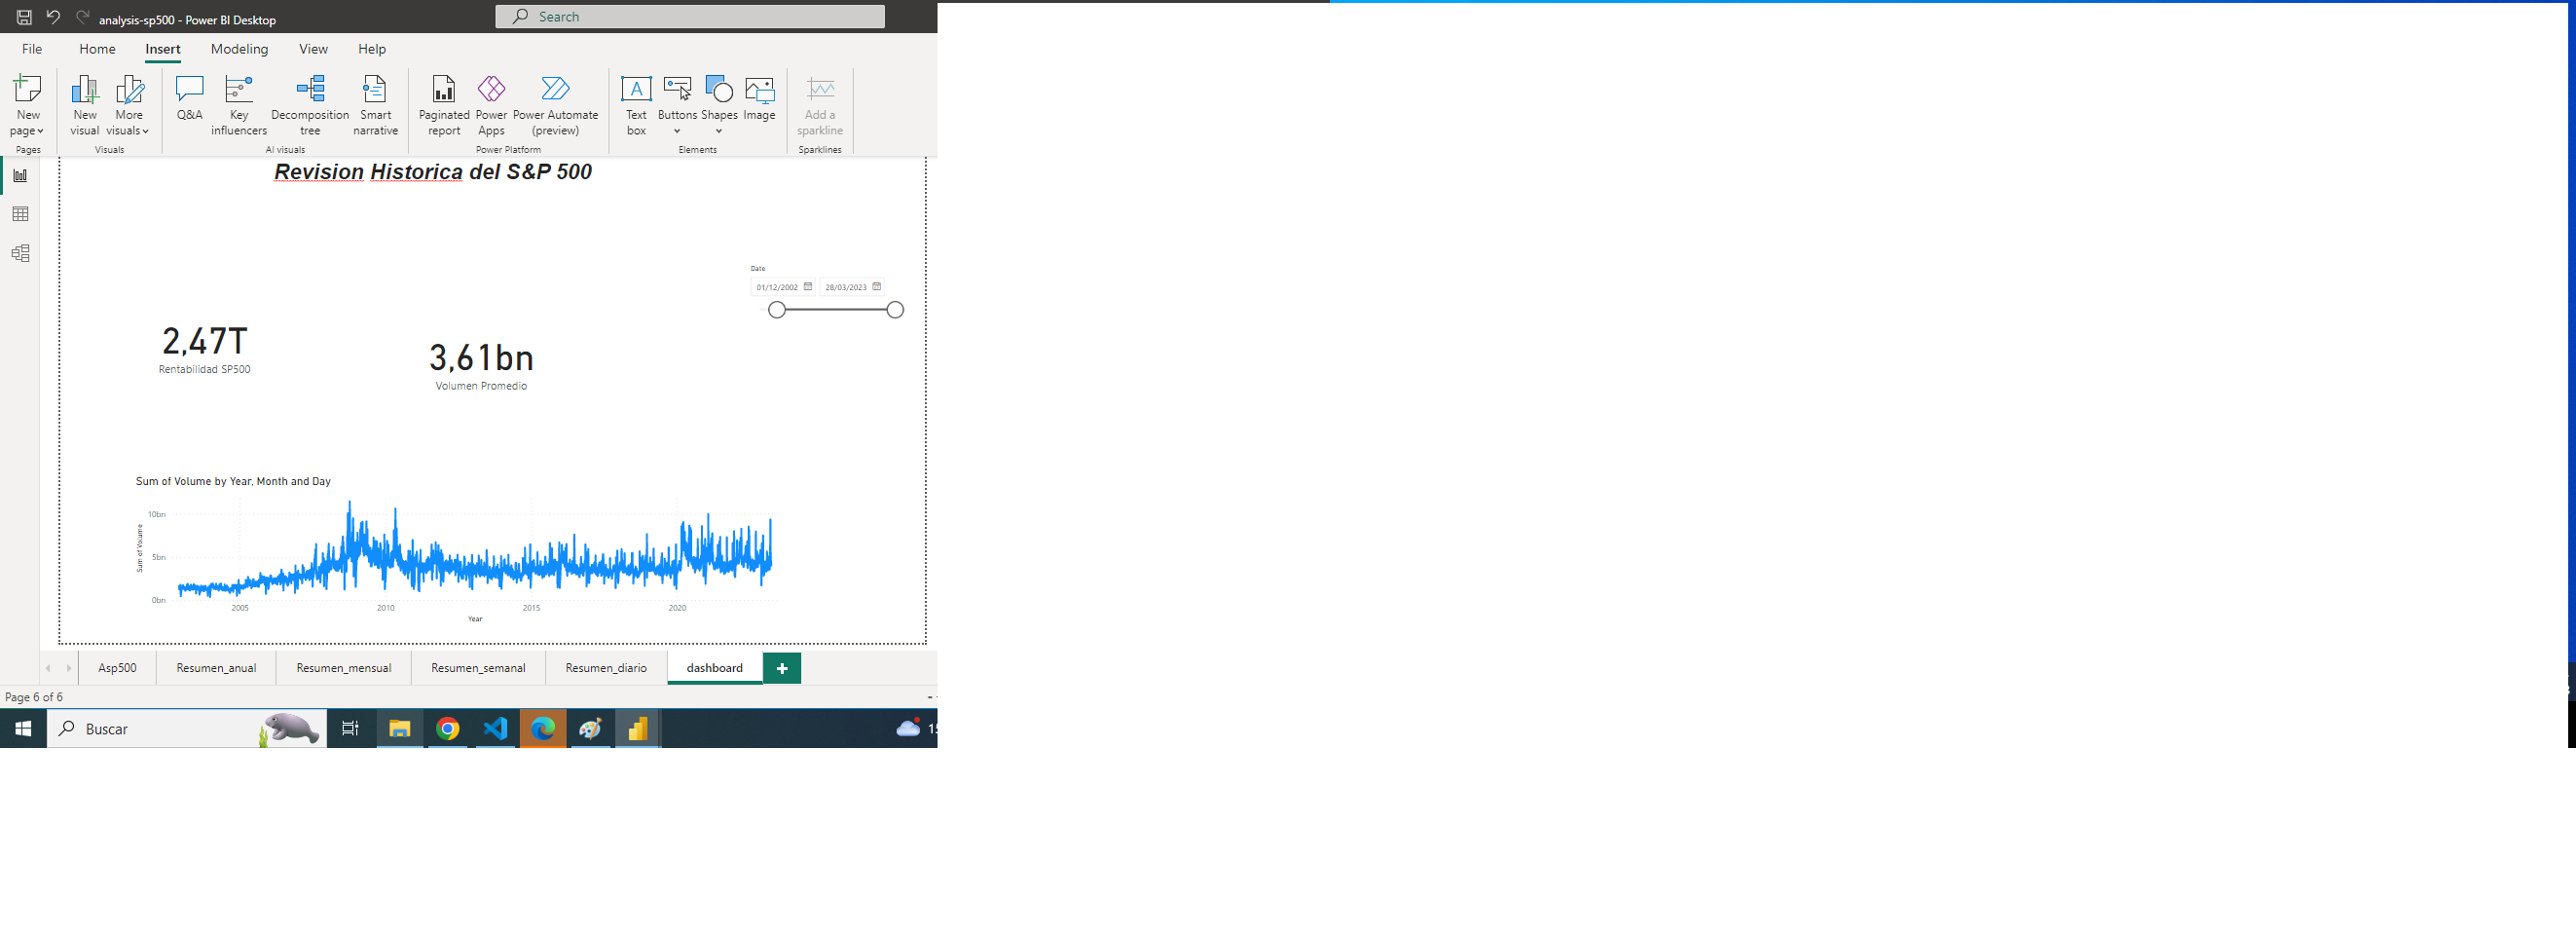

This screenshot's page, from the dashboard's own definition file:
{"tool":"powerbi","page":{"name":"dashboard","canvas":[1280,720],"ordinal":5},"visuals":[{"type":"lineChart","fields":{"Category":["Asp500.Date.Variation.Date Hierarchy.Year","Asp500.Date.Variation.Date Hierarchy.Month","Asp500.Date.Variation.Date Hierarchy.Day"],"Y":["Sum(Asp500.Volume)"]},"box":[106.6,470.9,963.4,224.6],"z":0},{"type":"card","fields":{"Values":["Asp500.Rentabilidad SP500"]},"box":[77.8,203,270.7,148.3],"z":1},{"type":"card","fields":{"Values":["Asp500.Volumen Promedio"]},"box":[459.4,227.5,326.9,148.3],"z":2},{"type":"slicer","fields":{"Values":["Asp500.Date"]},"box":[1008.1,155.3,247.6,123],"z":3},{"type":"textbox","box":[77.8,0,946.1,57.6],"z":4}]}

Visuals, with their boxes on the page's 1280x720 design canvas (x1, y1, x2, y2). These are canvas units, not pixel positions in the 2576x935 screenshot, which may show the page scaled, cropped or inside an application window:
lineChart - Asp500.Date.Variation.Date Hierarchy.Year x Asp500.Date.Variation.Date Hierarchy.Month: <region>107, 471, 1070, 696</region>
card - Asp500.Rentabilidad SP500: <region>78, 203, 348, 351</region>
card - Asp500.Volumen Promedio: <region>459, 228, 786, 376</region>
slicer - Asp500.Date: <region>1008, 155, 1256, 278</region>
textbox: <region>78, 0, 1024, 58</region>
